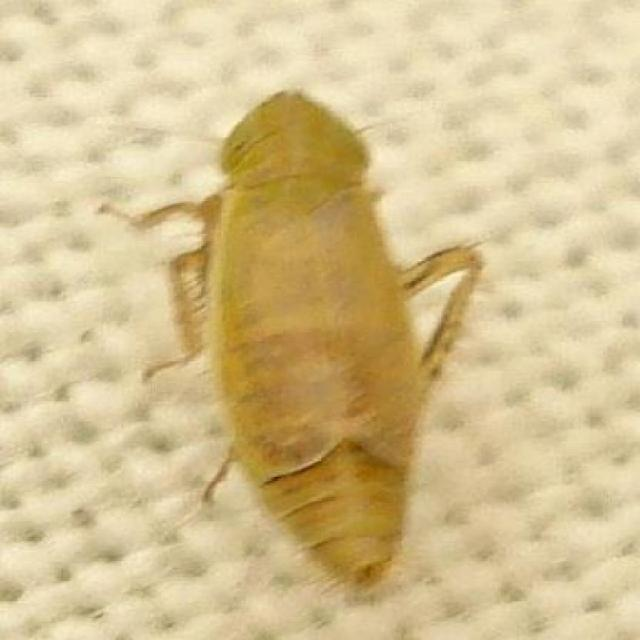green-leafhopper: (128, 79, 480, 598)
